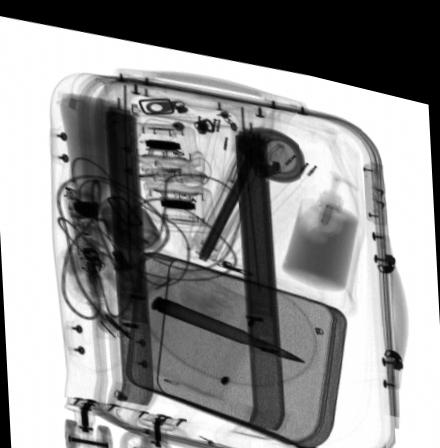Bullet: (151, 287, 312, 349)
